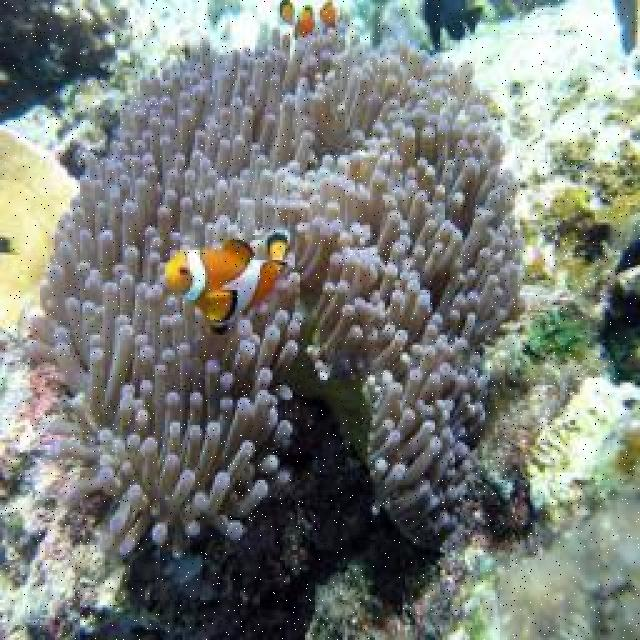fish: (165, 228, 291, 336)
reefs: (26, 15, 528, 558)
